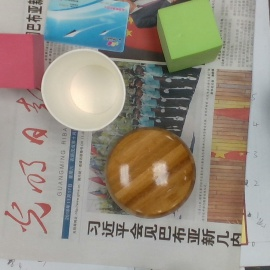card: (45, 1, 131, 51)
chess: (106, 127, 196, 218)
cup: (39, 47, 126, 134)
